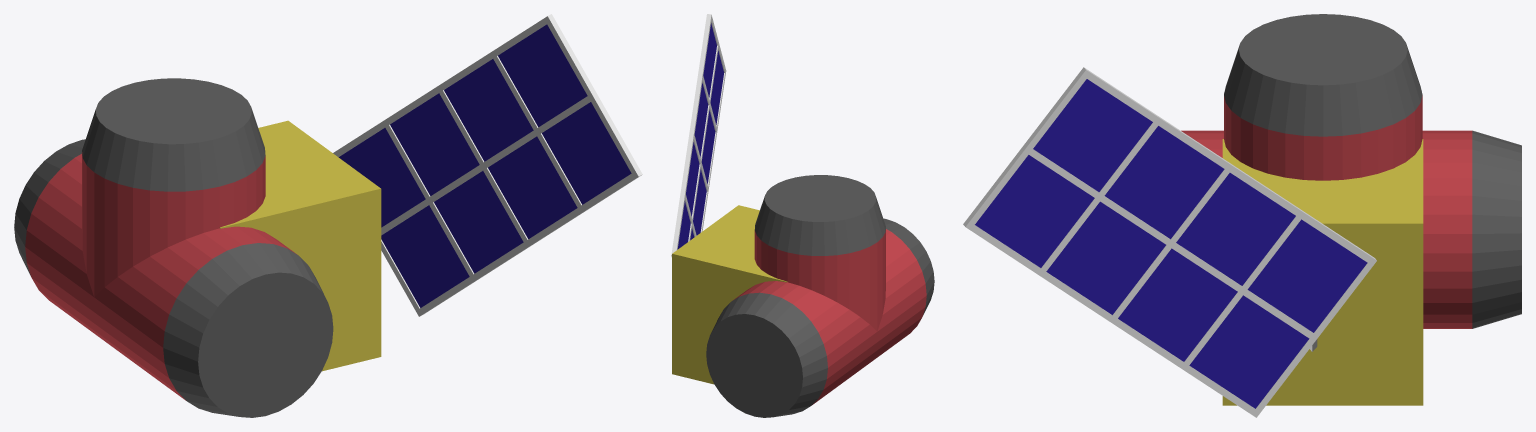
The model's file is divide.fbx.
3 renders of one model, left to right at view 1: azimuth 30°, elevation 25°; view 2: azimuth 150°, elevation 25°; view 3: azimuth 270°, elevation 25°, orthographic. The views are drawn at different scales.
Visible parts, largest first — view 1: Cone, Plane.001, Cylinder; view 2: Cone, Plane.001, Cylinder; view 3: Cone, Plane.001, Cylinder.
Boxes of the visible parts, x1,y1,x2,y2 form: Cone: (14, 78, 381, 417); Plane.001: (338, 24, 631, 307); Cylinder: (333, 14, 642, 316); Cone: (672, 175, 934, 417); Plane.001: (677, 23, 723, 249); Cylinder: (671, 14, 726, 256); Cone: (1181, 14, 1521, 405); Plane.001: (975, 79, 1367, 408); Cylinder: (963, 67, 1376, 417).
Size of the model in its own units: 481 by 436 by 563.
